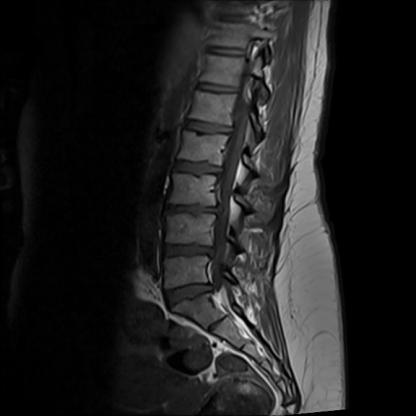Disc Bulgerotation: (160, 278, 221, 311), (164, 194, 231, 221), (158, 237, 221, 264)
